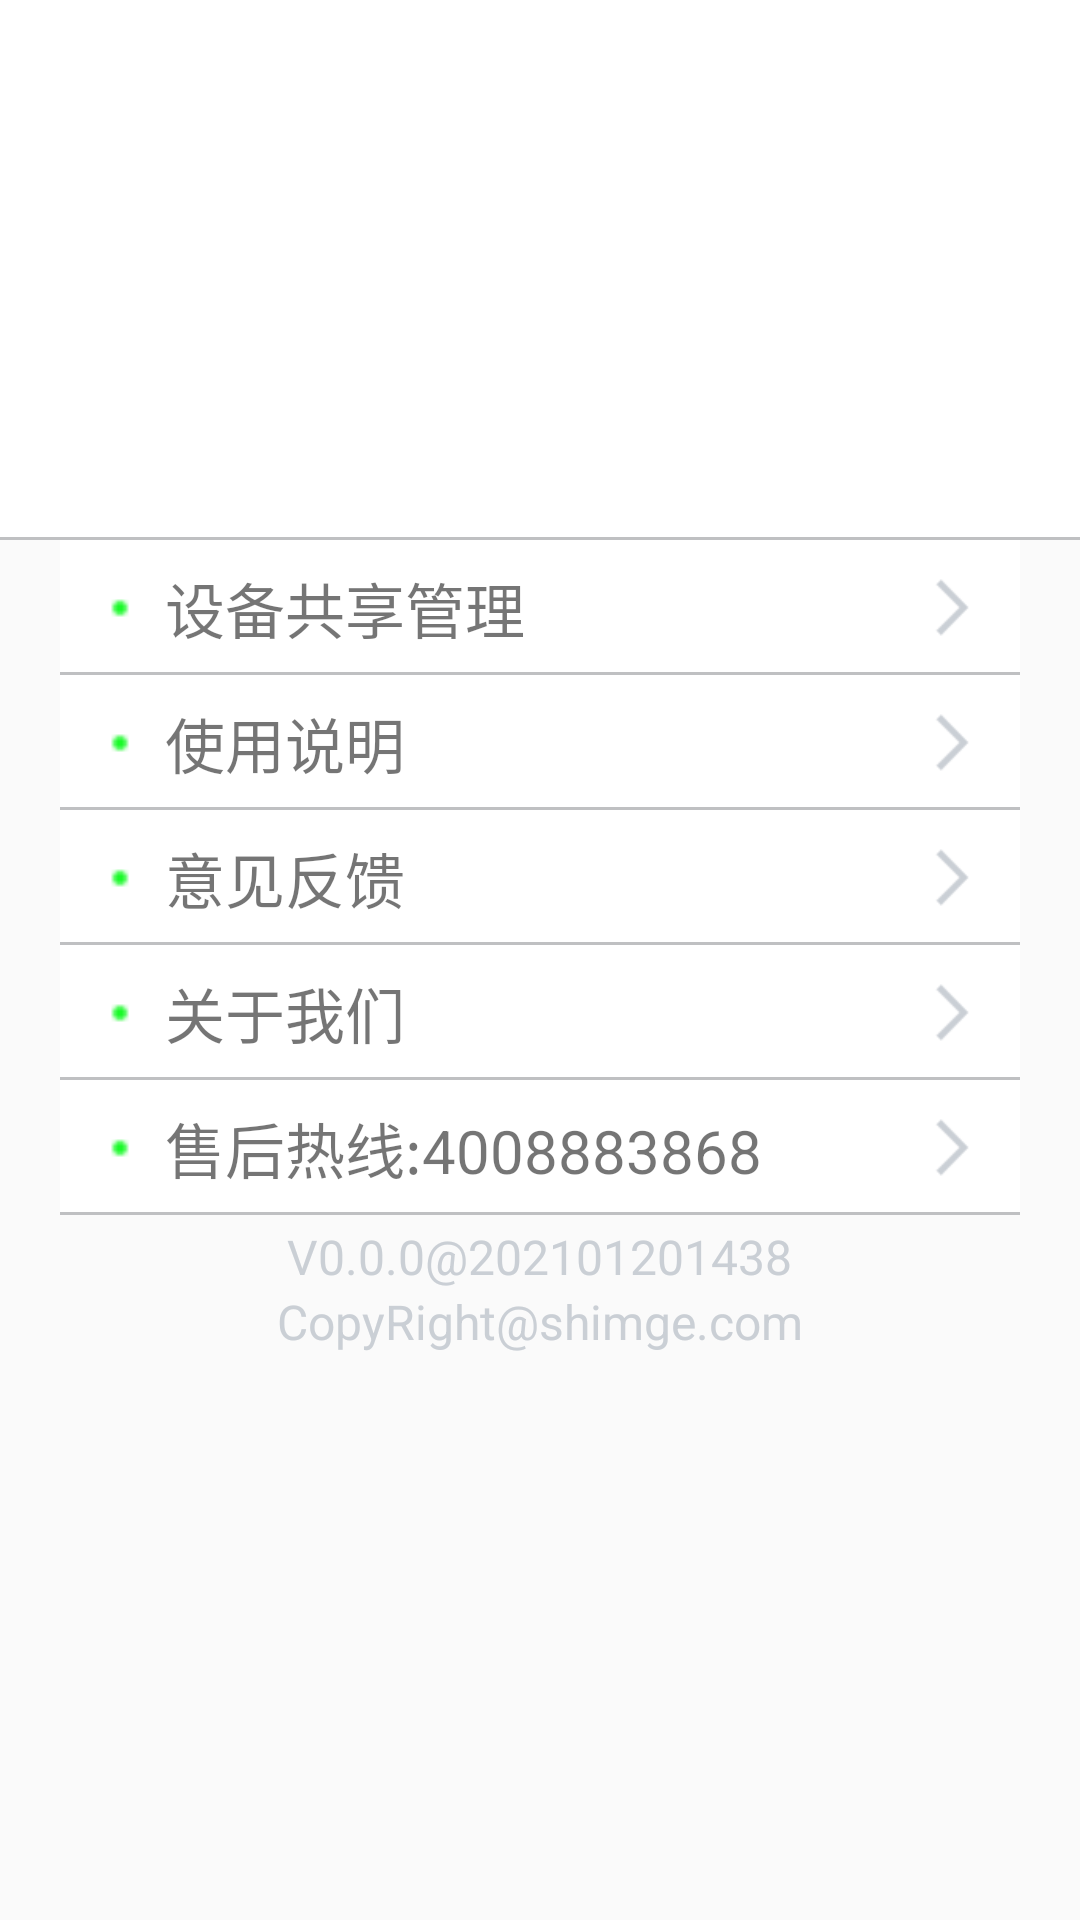

Named icons in this screenshot (1080 x 1920) and their centers, (x,y):
nextpage: (952,607), (952,742), (952,877), (952,1012), (952,1147)
